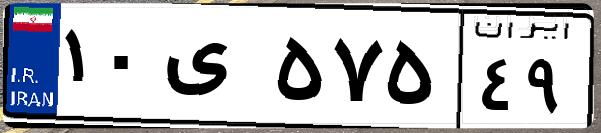0: (110, 28, 158, 98)
1: (57, 26, 110, 100)
4: (475, 38, 525, 113)
5: (270, 28, 330, 110), (385, 28, 445, 110)
7: (330, 28, 385, 110)
9: (525, 38, 570, 115)
ی: (158, 20, 270, 120)
